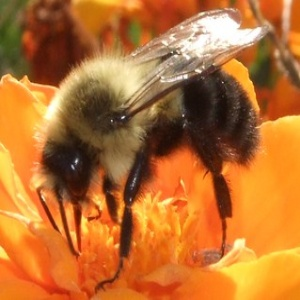bee: (32, 7, 269, 294)
